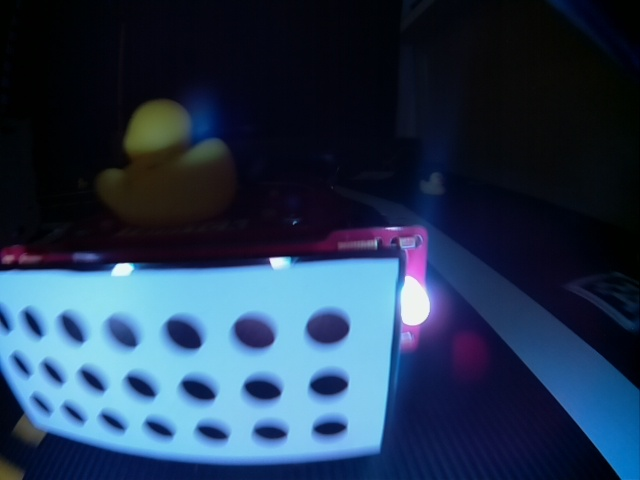Duckie: (102, 101, 233, 222), (421, 172, 445, 193)
Duckiebot: (2, 225, 428, 463)
QR code: (573, 270, 639, 332)
